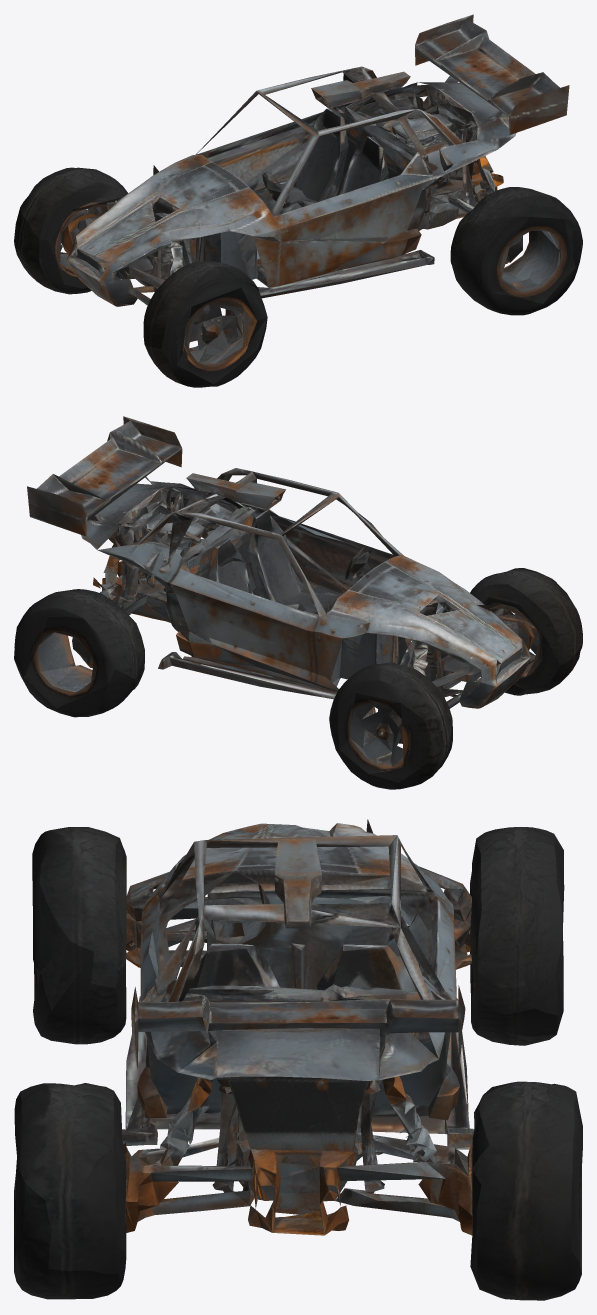
File: hopper_close_lod_2k.glb
3 renders of one model, top to bottom at view 1: azimuth 30°, elevation 25°; view 2: azimuth 150°, elevation 25°; view 3: azimuth 270°, elevation 25°, orthographic. The views are drawn at different scales.
Bounding box in the file's own units: 1.9 × 0.8306 × 1.26.
1 material, 1 textured.
